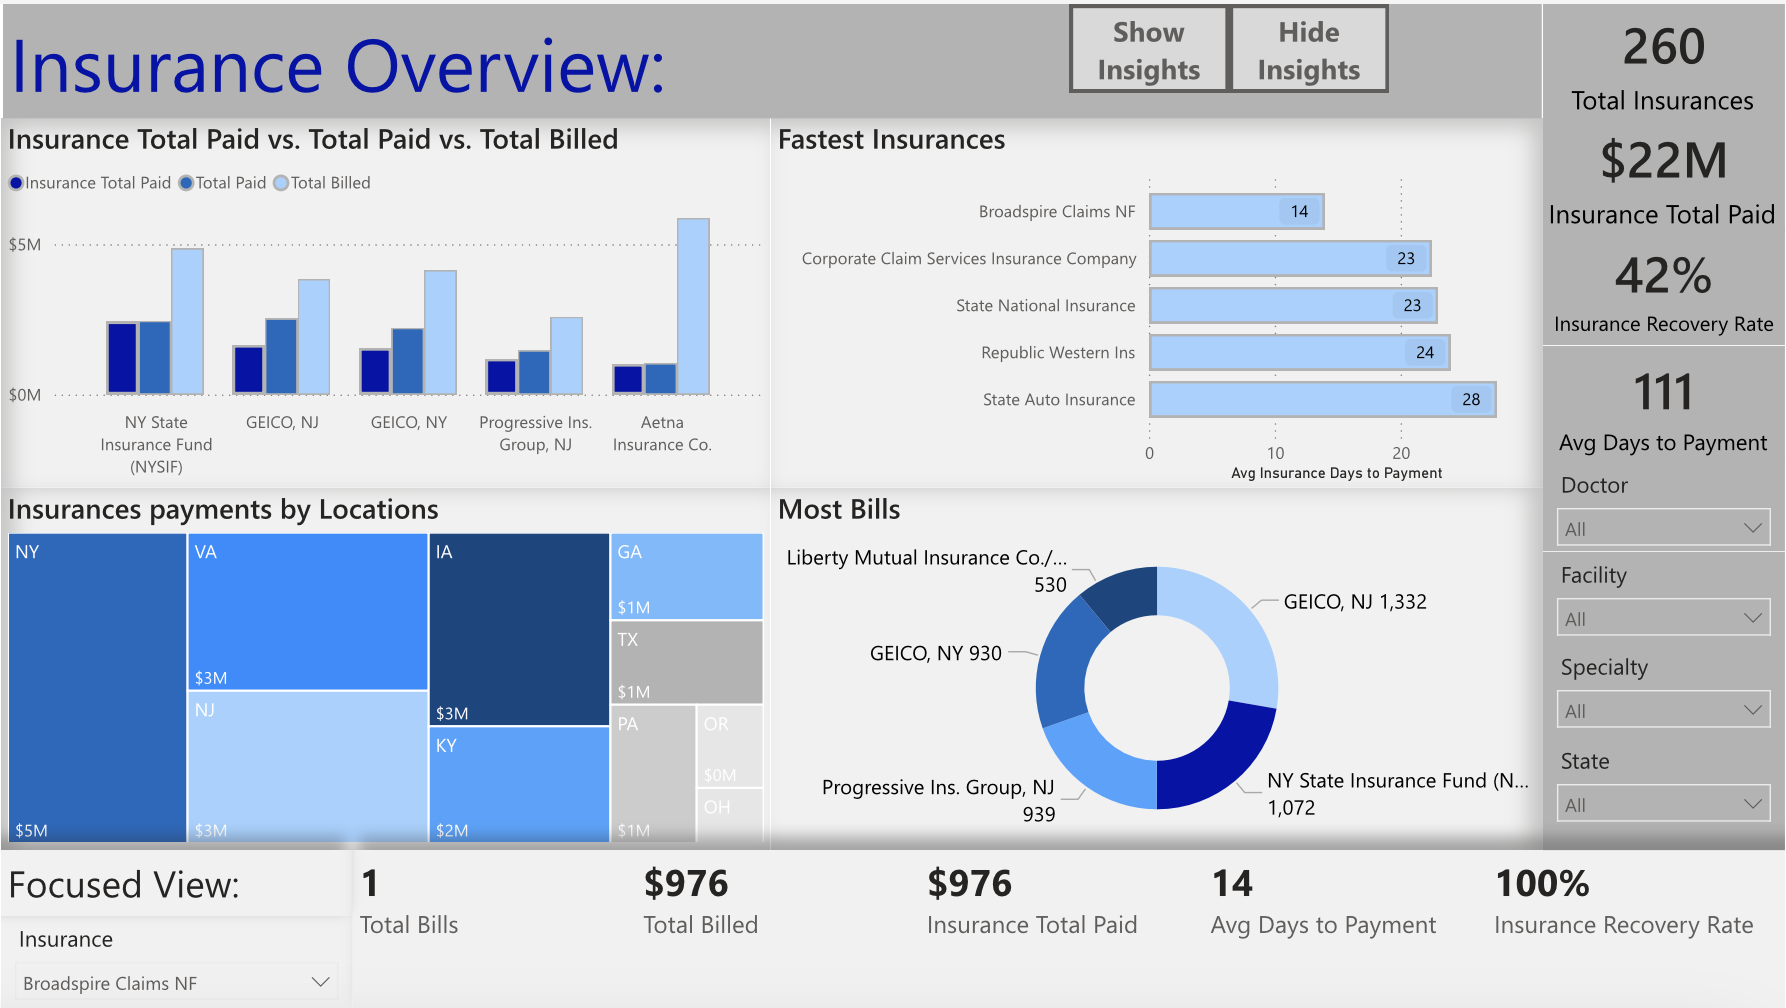

The page's visual inventory and layout, read from the dashboard file:
{"tool":"powerbi","page":{"name":"Insurance","canvas":[1280,720],"ordinal":2},"visuals":[{"type":"card","fields":{"Values":["Query1.Insurance's Recovery Rate"]},"box":[1105.6,160.8,173.6,84.1],"z":0},{"type":"card","fields":{"Values":["Query1.Insurance Total Paid"]},"box":[1105.6,82.2,173.6,82.2],"z":1000},{"type":"treemap","title":"Insurances payments by Locations","fields":{"Group":["Query1.insurance_state"],"Values":["Query1.Insurance Total Paid"]},"box":[0,347.2,551.9,259.5],"z":2000},{"type":"card","fields":{"Values":["Measure Selector.Total Insurances"]},"box":[1105.6,0,173.6,82.2],"z":3000},{"type":"clusteredColumnChart","title":"Insurance Total Paid vs. Total Paid vs. Total Billed","fields":{"Category":["Query1.insurance_name"],"Y":["Query1.Insurance Total Paid","Query1.Total Paid","Query1.Total Billed"]},"box":[0,82.2,551.9,265],"z":4000},{"type":"donutChart","title":"Most Bills","fields":{"Category":["Query1.insurance_name"],"Y":["Query1.Total Bills"]},"box":[551.9,347.2,553.7,259.5],"z":5000},{"type":"barChart","title":"Fastest Insurances","fields":{"Category":["Query1.insurance_name"],"Y":["Query1.Avg Insurance Days to Payment"]},"box":[551.9,82.2,553.7,265],"z":6000},{"type":"slicer","fields":{"Values":["Query1.insurance_state"]},"box":[1105.6,526.3,173.6,80.4],"z":7000},{"type":"multiRowCard","fields":{"Values":["Query1.Total Bills","Query1.Total Billed","Query1.Insurance Total Paid","Query1.Avg Insurance Days to Payment","Query1.Insurance Recovery Rate"]},"box":[252.2,606.7,1027,113.3],"z":8000},{"type":"slicer","fields":{"Values":["Query1.insurance_name"]},"box":[0,654.2,252.2,65.8],"z":9000},{"type":"slicer","fields":{"Values":["Query1.Fake Doctor Name"]},"box":[1105.6,328.9,173.6,64],"z":10000},{"type":"slicer","fields":{"Values":["Query1.practice_facility"]},"box":[1105.6,392.9,173.6,65.8],"z":11000},{"type":"slicer","fields":{"Values":["Query1.doctor_specialty"]},"box":[1105.6,458.7,173.6,67.6],"z":12000},{"type":"textbox","box":[0,606.7,252.2,47.5],"z":13000},{"type":"textbox","box":[1.8,0,1103.8,82.2],"z":14000},{"type":"card","fields":{"Values":["Query1.Avg Insurance Days to Payment"]},"box":[1105.6,244.9,173.6,84.1],"z":15000},{"type":"shape","box":[400.2,180.9,338.1,93.2],"z":16000},{"type":"shape","box":[2,391.3,411.7,132.5],"z":18000},{"type":"actionButton","box":[765.7,0,115.1,64],"z":19000},{"type":"actionButton","box":[880.8,0,115.1,64],"z":20000}]}

Visuals, with their boxes in screenshot pixels (x1, y1, x2, y2), scaled from the page's 1280x720 canvas onto the 1786x1008 screenshot:
card - Query1.Insurance's Recovery Rate: (left=1543, top=225, right=1785, bottom=343)
card - Query1.Insurance Total Paid: (left=1543, top=115, right=1785, bottom=230)
"Insurances payments by Locations" treemap: (left=0, top=486, right=770, bottom=849)
card - Measure Selector.Total Insurances: (left=1543, top=0, right=1785, bottom=115)
"Insurance Total Paid vs. Total Paid vs. Total Billed" clusteredColumnChart: (left=0, top=115, right=770, bottom=486)
"Most Bills" donutChart: (left=770, top=486, right=1543, bottom=849)
"Fastest Insurances" barChart: (left=770, top=115, right=1543, bottom=486)
slicer - Query1.insurance_state: (left=1543, top=737, right=1785, bottom=849)
multiRowCard - Query1.Total Bills x Query1.Total Billed: (left=352, top=849, right=1785, bottom=1007)
slicer - Query1.insurance_name: (left=0, top=916, right=352, bottom=1007)
slicer - Query1.Fake Doctor Name: (left=1543, top=460, right=1785, bottom=550)
slicer - Query1.practice_facility: (left=1543, top=550, right=1785, bottom=642)
slicer - Query1.doctor_specialty: (left=1543, top=642, right=1785, bottom=737)
textbox: (left=0, top=849, right=352, bottom=916)
textbox: (left=3, top=0, right=1543, bottom=115)
card - Query1.Avg Insurance Days to Payment: (left=1543, top=343, right=1785, bottom=461)
shape: (left=558, top=253, right=1030, bottom=384)
shape: (left=3, top=548, right=577, bottom=733)
actionButton: (left=1068, top=0, right=1229, bottom=90)
actionButton: (left=1229, top=0, right=1390, bottom=90)
